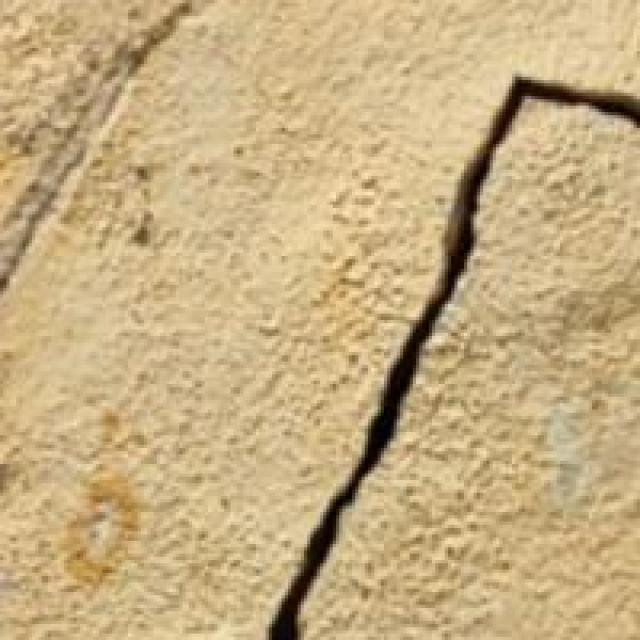Crack: (208, 58, 637, 637)
